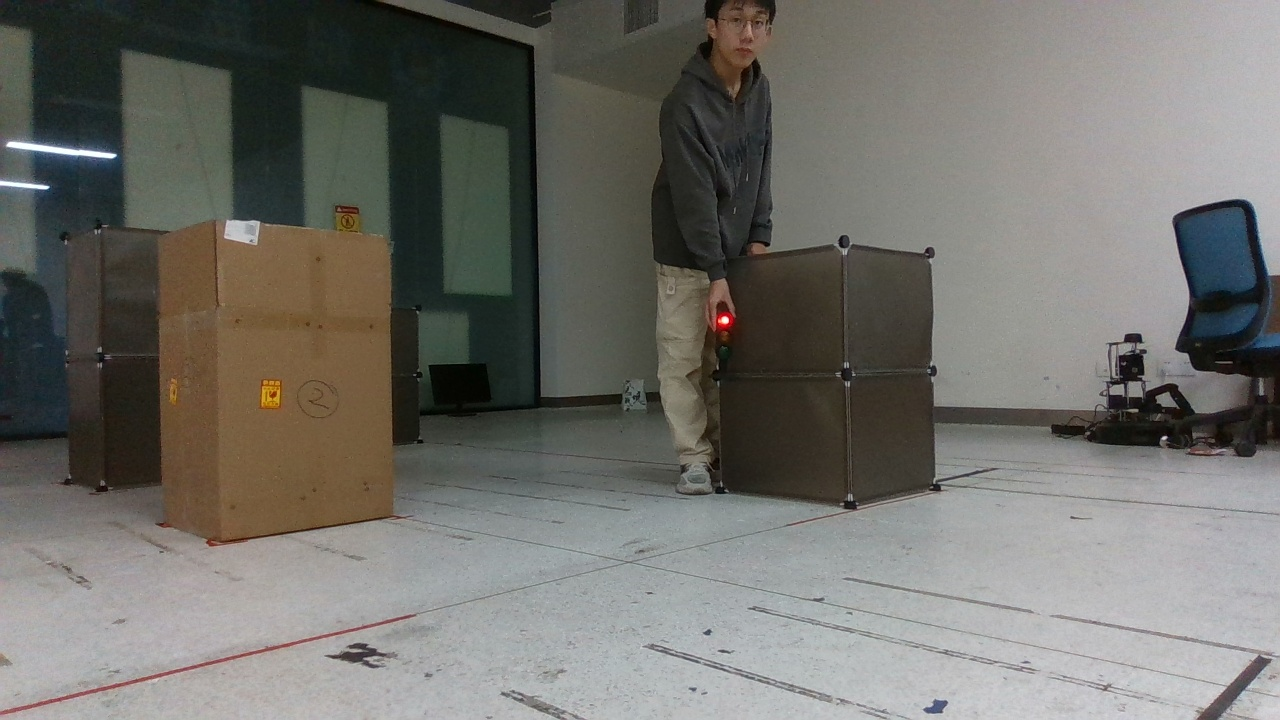red_light: (695, 291, 751, 378)
